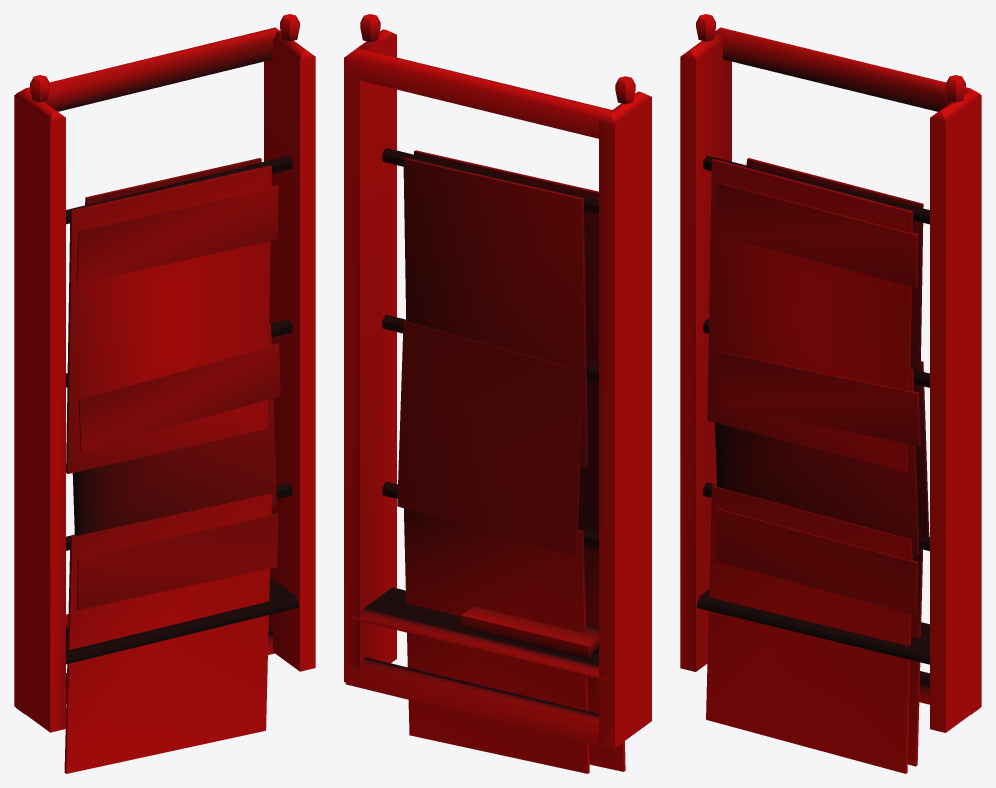
File: CI_Cafe_NewspaperRack.glb
The picture shows the model from 3 angles, left to right: view 1: azimuth 30°, elevation 25°; view 2: azimuth 150°, elevation 25°; view 3: azimuth 330°, elevation 25°; orthographic projection. The views are drawn at different scales.
Visible parts, largest first — view 1: CI_Cafe_NewspaperRack; view 2: CI_Cafe_NewspaperRack; view 3: CI_Cafe_NewspaperRack.
Part boxes in pixels (bbox=[...]): CI_Cafe_NewspaperRack: bbox=[14, 14, 315, 773]; CI_Cafe_NewspaperRack: bbox=[344, 14, 651, 773]; CI_Cafe_NewspaperRack: bbox=[680, 14, 981, 773].
Bounding box in the file's own units: 0.432 × 1.06 × 0.1.
